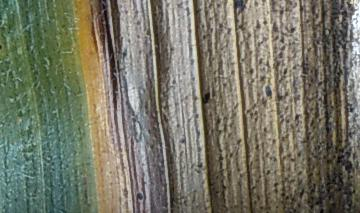tarspot: (235, 1, 247, 13), (202, 91, 211, 105), (264, 85, 272, 98), (137, 191, 144, 201)
